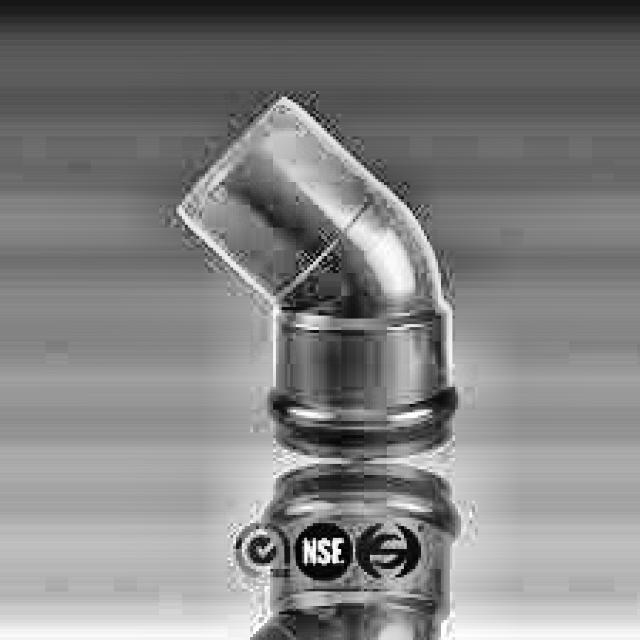ELBOW45: (176, 97, 458, 464)
